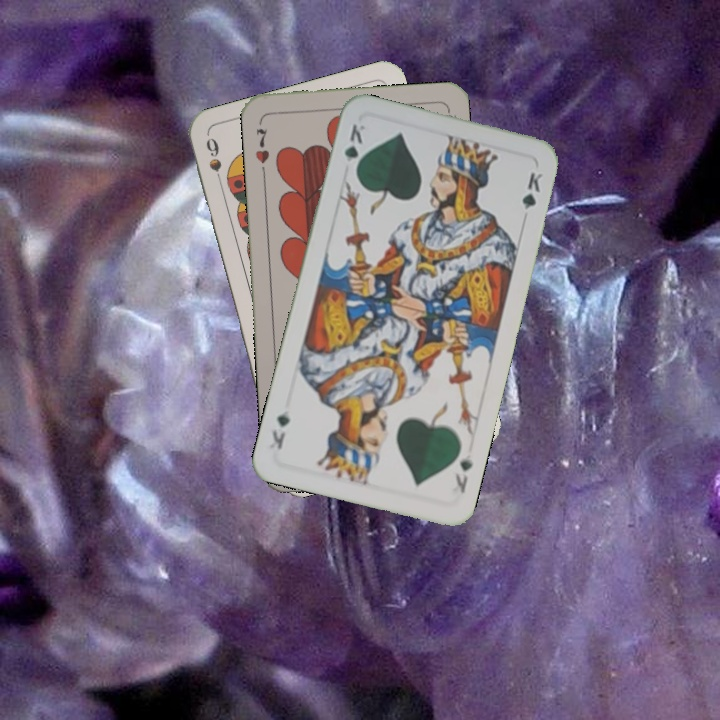GK: (340, 120, 368, 178), (451, 455, 476, 497)
H7: (251, 124, 272, 177)
S9: (202, 134, 226, 192)
